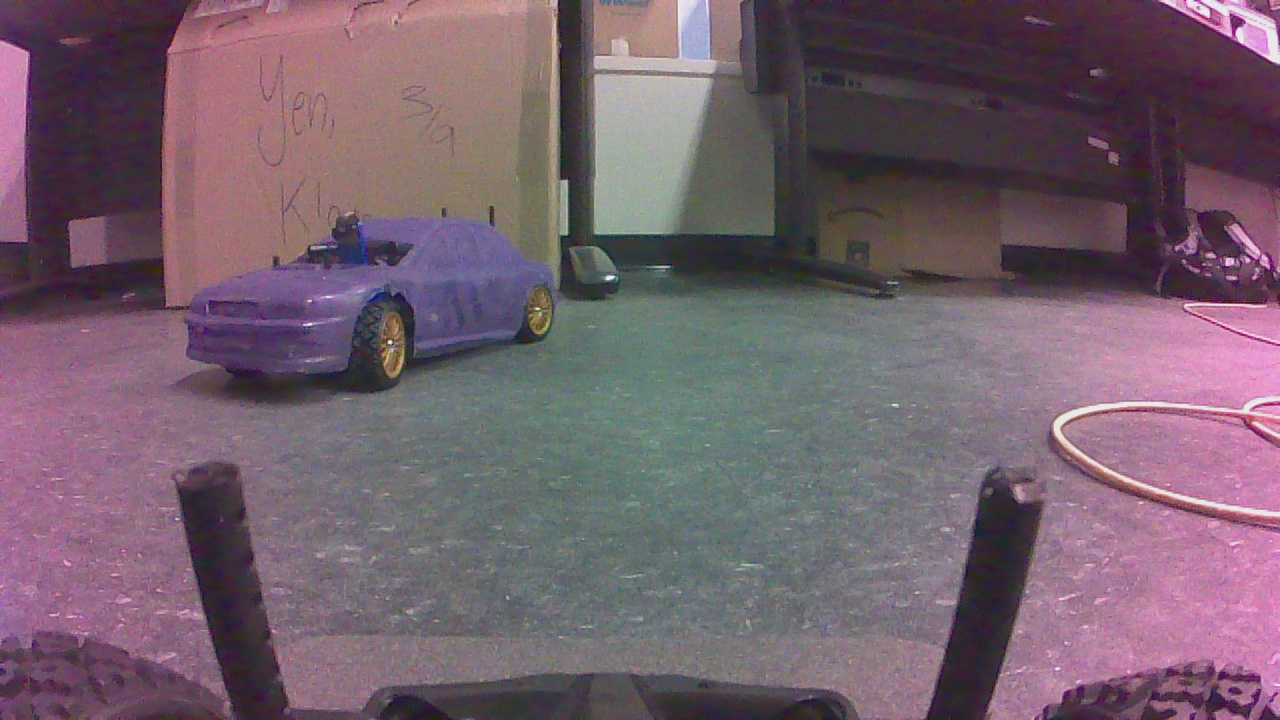opponent: (177, 206, 580, 401)
